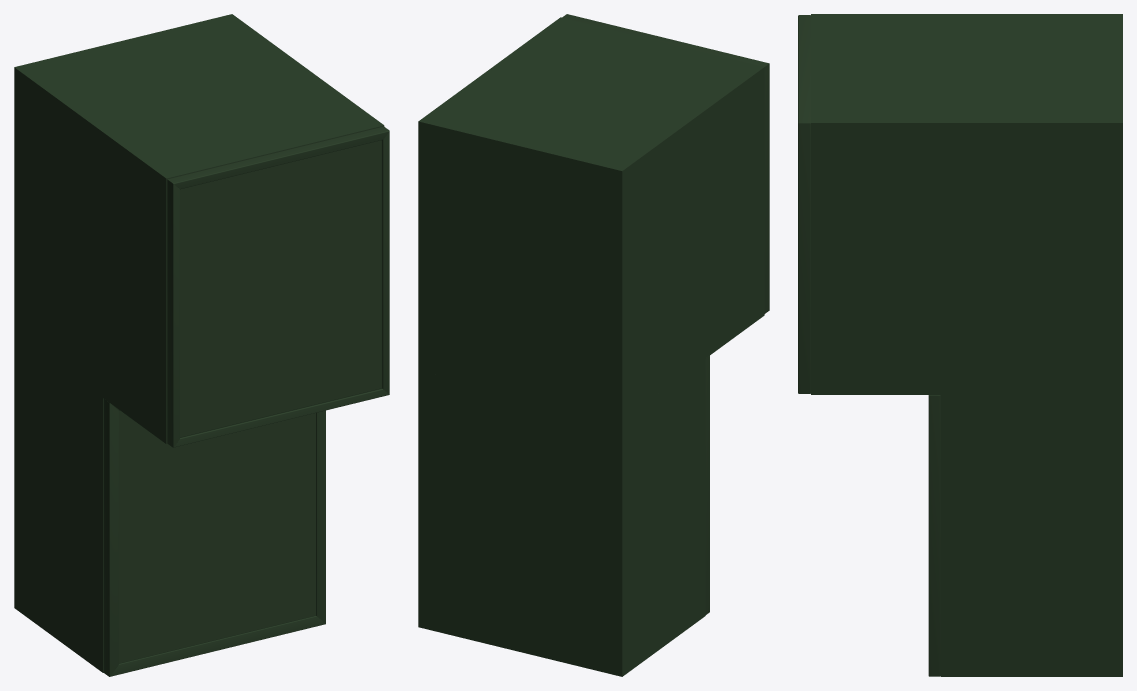
File: default_top.gltf
3 views of the same model, side by side, from view 1: azimuth 30°, elevation 25°; view 2: azimuth 150°, elevation 25°; view 3: azimuth 270°, elevation 25° (orthographic). The views are drawn at different scales.
Parts seen in each view (by area): view 1: Rectangle027, Box8222893, Rectangle017, Box8222873, Rectangle047; view 2: Rectangle027, Box8222873, Rectangle047, Rectangle017; view 3: Rectangle027, Box8222873, Rectangle047, Rectangle017.
Part boxes in pixels (box(x1,y1,x2,y2)): Rectangle027: box(14, 14, 384, 443); Box8222893: box(180, 140, 381, 437); Rectangle017: box(104, 399, 325, 676); Box8222873: box(14, 333, 103, 672); Rectangle047: box(167, 126, 389, 447); Rectangle027: box(418, 17, 764, 419); Box8222873: box(418, 359, 705, 676); Rectangle047: box(562, 14, 769, 313); Rectangle017: box(705, 356, 709, 614); Rectangle027: box(811, 14, 1122, 394); Box8222873: box(940, 395, 1122, 676); Rectangle047: box(798, 15, 810, 393); Rectangle017: box(928, 395, 940, 676).
Size of the model in its own units: 0.481 by 1.14 by 0.6055.
